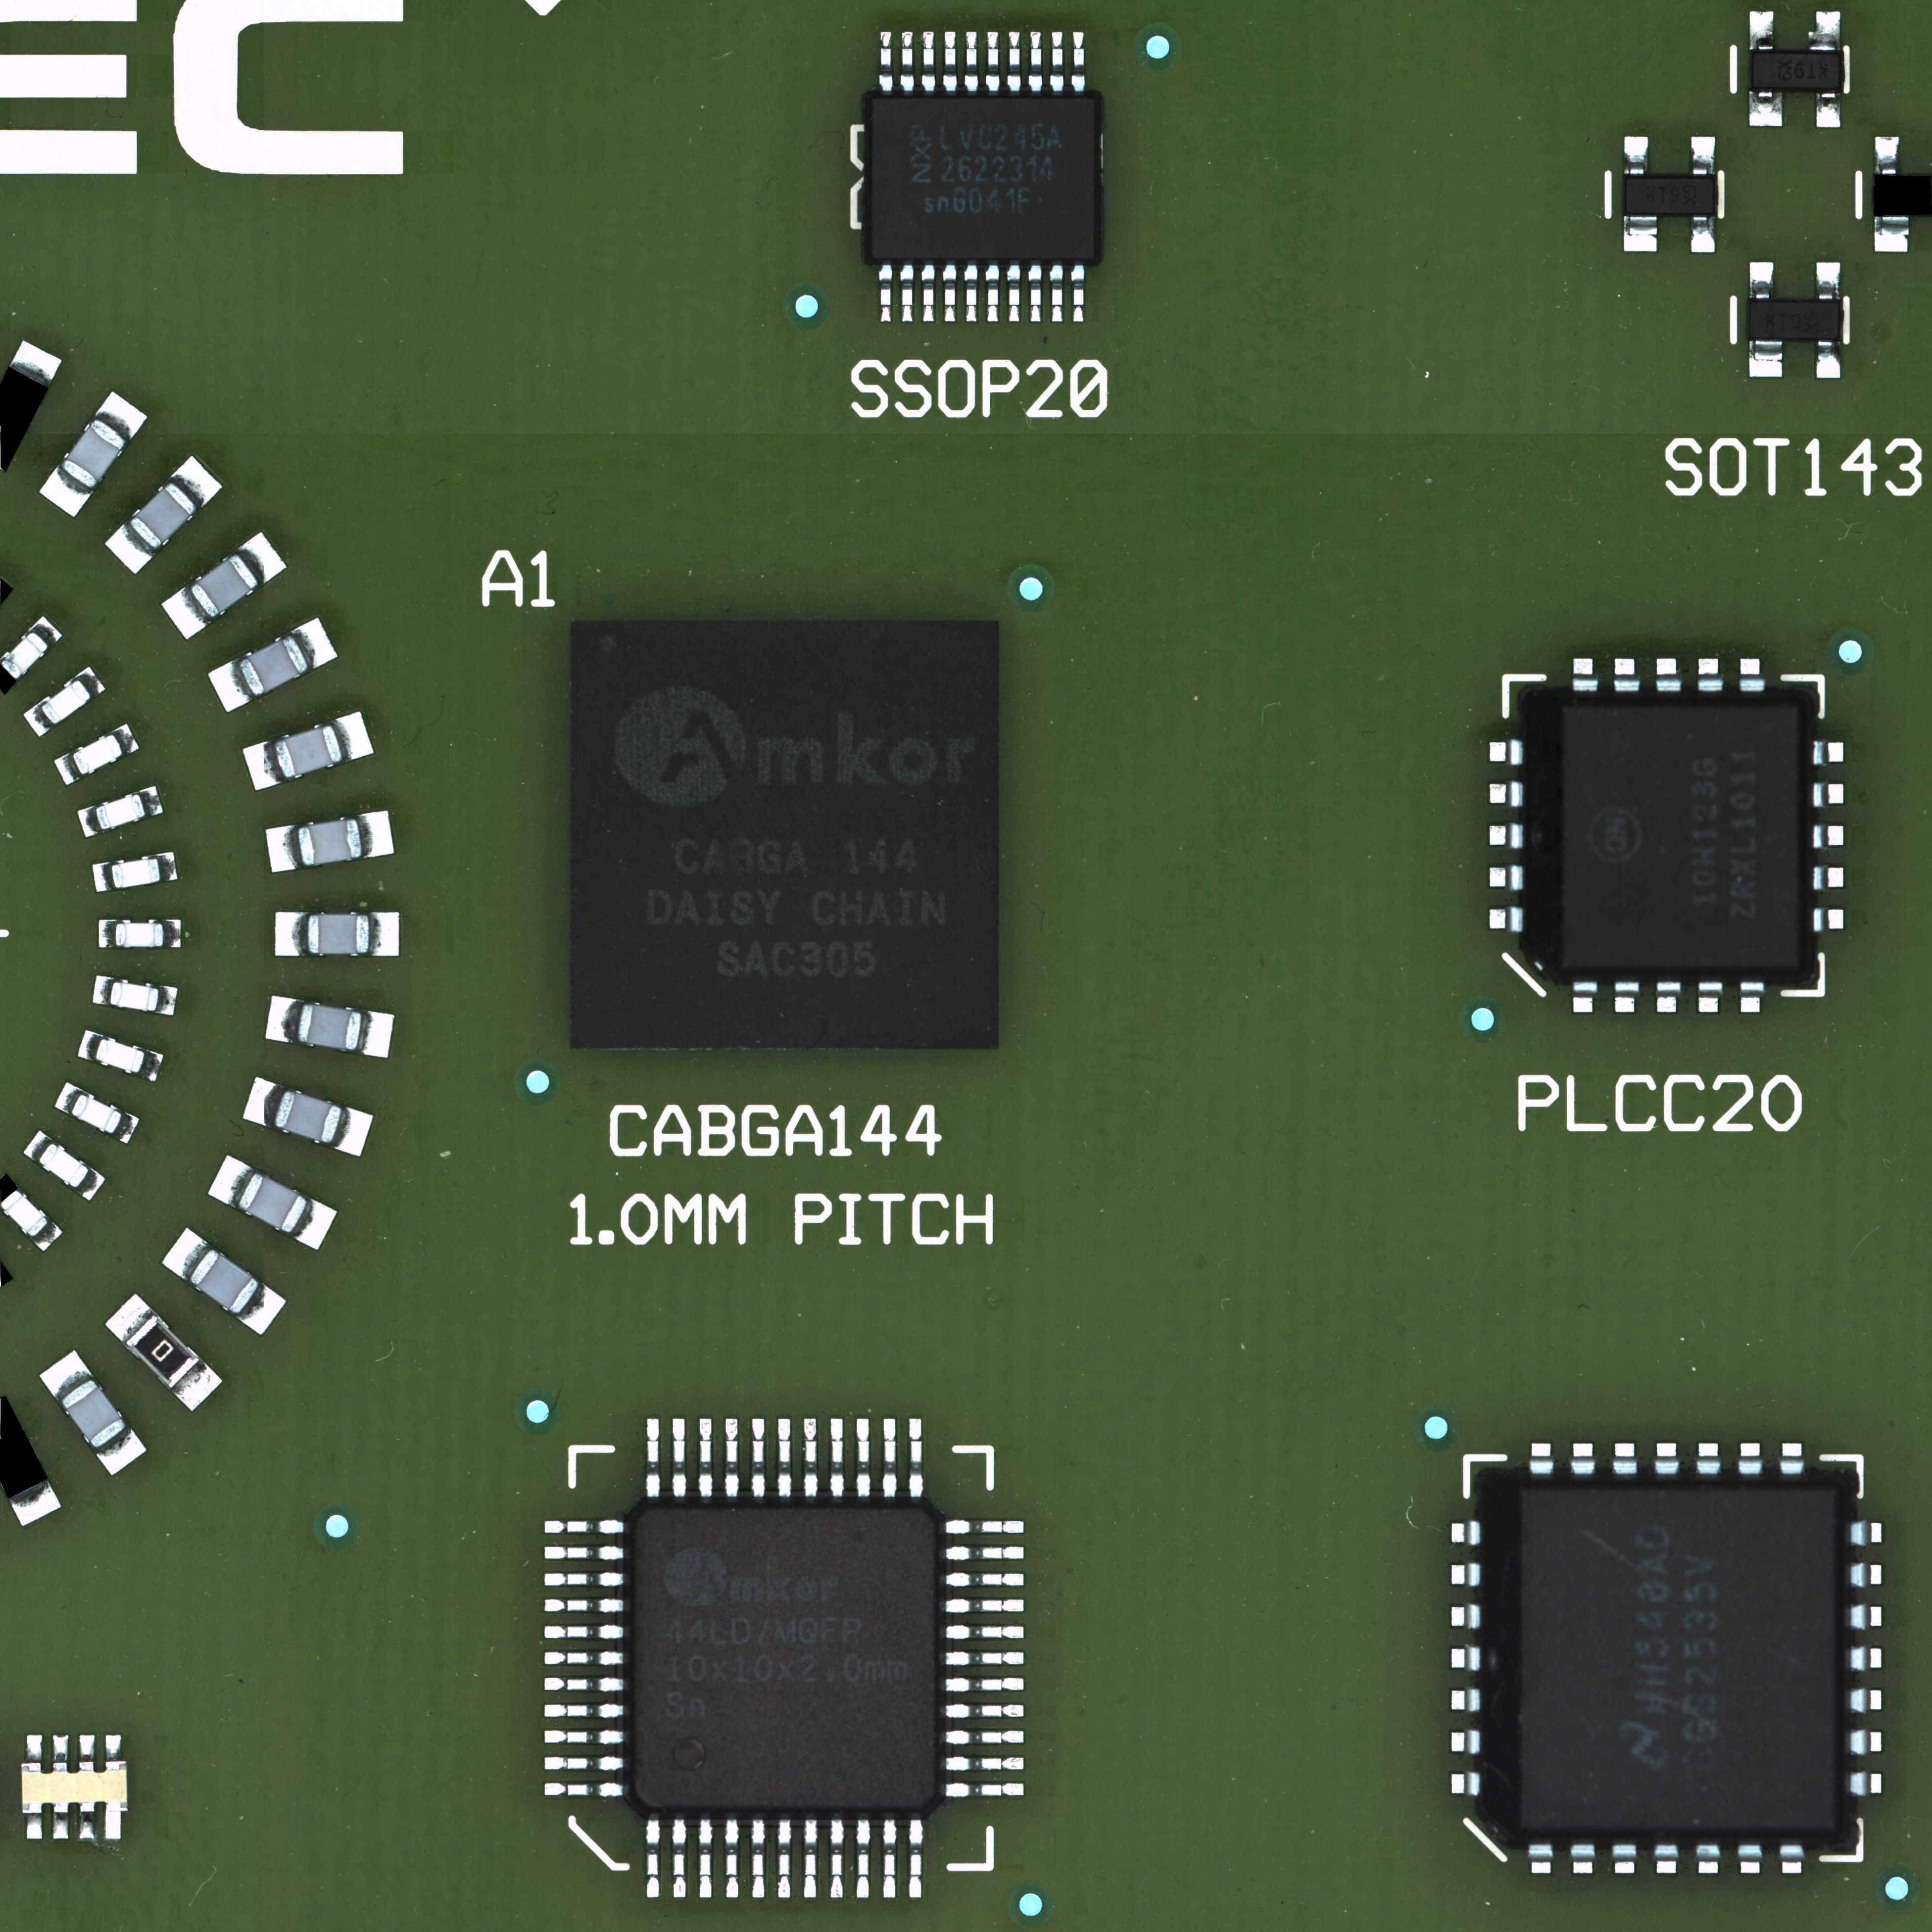Package: (570, 623, 996, 1054), (1516, 1486, 1840, 1836), (630, 1506, 938, 1813), (1560, 704, 1803, 971), (870, 97, 1095, 260), (124, 1313, 202, 1389), (21, 1760, 129, 1813), (58, 418, 131, 492), (186, 1247, 262, 1318), (58, 1378, 129, 1451), (127, 481, 198, 550), (189, 552, 260, 619), (237, 633, 311, 697), (235, 1171, 310, 1235), (272, 724, 345, 780), (272, 1088, 343, 1145), (295, 817, 364, 867), (1750, 303, 1838, 338), (1752, 53, 1840, 88), (1626, 179, 1714, 214), (297, 1003, 363, 1051), (37, 1141, 90, 1189), (308, 913, 370, 954), (0, 630, 50, 679), (39, 679, 92, 725), (71, 1092, 124, 1136), (73, 732, 126, 777), (94, 793, 147, 832), (94, 1037, 145, 1074), (111, 856, 161, 890), (108, 982, 159, 1012), (115, 924, 163, 948)
Solder: (168, 455, 223, 510), (159, 586, 214, 640), (103, 522, 157, 575), (235, 531, 288, 586), (170, 1359, 223, 1412), (39, 467, 94, 518), (94, 1426, 149, 1477), (39, 1350, 94, 1401), (94, 391, 149, 441), (207, 658, 257, 713), (161, 1226, 211, 1281), (104, 1293, 156, 1345), (237, 1283, 287, 1336), (207, 1154, 255, 1208), (7, 1479, 62, 1527), (290, 1198, 338, 1251), (9, 340, 62, 387), (292, 616, 338, 671), (331, 709, 375, 763), (241, 1076, 285, 1129), (331, 1106, 375, 1157), (242, 740, 285, 791), (265, 994, 304, 1044), (356, 810, 395, 858), (265, 824, 303, 872), (357, 1010, 395, 1058), (881, 1819, 899, 1900), (945, 1518, 1024, 1536), (1748, 340, 1783, 379), (276, 911, 306, 955), (908, 1415, 924, 1499), (671, 1817, 686, 1900), (1874, 216, 1909, 253), (1808, 11, 1840, 51), (945, 1704, 1026, 1720), (697, 1417, 713, 1499), (724, 1819, 740, 1900), (943, 1677, 1024, 1693), (750, 1819, 766, 1900), (370, 913, 400, 955), (545, 1704, 625, 1720), (545, 1571, 625, 1587), (543, 1677, 623, 1693), (545, 1546, 625, 1562), (947, 1571, 1026, 1587), (881, 1417, 897, 1497), (543, 1520, 623, 1536), (945, 1651, 1024, 1667), (644, 1819, 660, 1898), (945, 1546, 1023, 1562), (1624, 216, 1658, 251), (1488, 736, 1525, 768), (672, 1415, 686, 1499), (699, 1819, 713, 1900), (646, 1417, 660, 1499), (543, 1783, 625, 1798), (777, 1819, 791, 1900), (943, 1783, 1024, 1798), (1750, 90, 1782, 126), (545, 1730, 625, 1744), (750, 1417, 764, 1497), (856, 1821, 870, 1900), (856, 1417, 870, 1497), (543, 1651, 623, 1665), (830, 1417, 844, 1497), (830, 1821, 844, 1900), (543, 1624, 623, 1638), (803, 1417, 817, 1497), (777, 1417, 791, 1497), (945, 1599, 1024, 1614), (545, 1757, 625, 1771), (945, 1757, 1024, 1771), (1488, 863, 1525, 893), (1847, 1686, 1884, 1716), (1847, 1603, 1884, 1633), (945, 1730, 1023, 1744), (724, 1419, 738, 1497), (909, 1821, 924, 1898), (803, 1821, 817, 1898), (1874, 136, 1902, 175), (23, 704, 55, 738), (30, 1221, 64, 1253), (1571, 658, 1601, 694), (1847, 1644, 1882, 1674), (1449, 1518, 1484, 1548), (1449, 1601, 1484, 1631), (1488, 780, 1525, 809), (1815, 340, 1842, 379), (1815, 262, 1842, 301), (32, 616, 64, 648), (76, 1168, 106, 1201), (23, 1129, 53, 1162), (53, 752, 83, 786), (76, 665, 106, 699), (1750, 11, 1775, 51), (1488, 906, 1523, 934), (1656, 658, 1684, 694), (1778, 1442, 1806, 1477), (1490, 823, 1525, 851), (1849, 1729, 1884, 1757), (1847, 1562, 1882, 1591), (1847, 1520, 1882, 1548), (1449, 1644, 1484, 1672), (1449, 1686, 1484, 1714), (1070, 32, 1086, 94), (1049, 32, 1065, 94), (945, 1626, 1024, 1638), (545, 1599, 625, 1612), (962, 264, 978, 324), (878, 264, 893, 324), (941, 264, 957, 324), (984, 264, 1000, 324), (1739, 980, 1767, 1014), (1614, 980, 1642, 1014), (1569, 1842, 1598, 1875), (1571, 980, 1599, 1014), (1449, 1560, 1483, 1589), (1451, 1729, 1484, 1757), (111, 1111, 140, 1145), (53, 1081, 81, 1115), (1656, 980, 1683, 1016), (1698, 658, 1725, 694), (1739, 658, 1766, 694), (1849, 1771, 1884, 1798), (1614, 658, 1640, 694), (920, 264, 936, 322), (1690, 216, 1714, 253), (1750, 262, 1775, 299), (1817, 92, 1842, 129), (943, 30, 957, 94), (922, 30, 936, 94), (879, 30, 893, 94), (985, 30, 1000, 94), (1778, 1844, 1806, 1875), (1007, 30, 1021, 94), (111, 724, 140, 755), (1691, 136, 1714, 175), (1624, 136, 1647, 175), (1698, 980, 1725, 1014), (1737, 1442, 1764, 1476), (1654, 1442, 1681, 1476), (1612, 1442, 1638, 1476), (1449, 1771, 1483, 1798), (138, 1049, 165, 1083), (76, 805, 103, 839), (1028, 30, 1042, 92), (901, 32, 915, 94), (964, 32, 978, 94), (1049, 265, 1063, 326), (899, 264, 913, 324), (1070, 264, 1085, 324), (1028, 265, 1042, 326), (1527, 1842, 1553, 1874), (1612, 1844, 1638, 1875), (1695, 1844, 1721, 1875), (1695, 1444, 1721, 1476), (76, 1030, 103, 1062), (138, 786, 165, 817), (1529, 1442, 1553, 1476), (1571, 1442, 1596, 1476), (1812, 908, 1845, 932), (1812, 741, 1845, 766), (1812, 824, 1845, 849), (1812, 867, 1845, 892), (1812, 782, 1845, 807), (1007, 264, 1021, 322), (1737, 1844, 1764, 1874), (1654, 1844, 1679, 1875), (92, 862, 115, 893), (157, 851, 179, 883), (92, 975, 113, 1005), (157, 985, 179, 1016), (163, 920, 180, 948), (78, 1734, 96, 1760), (78, 1813, 96, 1840), (104, 1734, 122, 1760), (25, 1734, 42, 1760), (104, 1813, 122, 1840), (25, 1813, 42, 1840), (99, 920, 115, 948), (53, 1813, 69, 1840), (53, 1734, 69, 1760)
